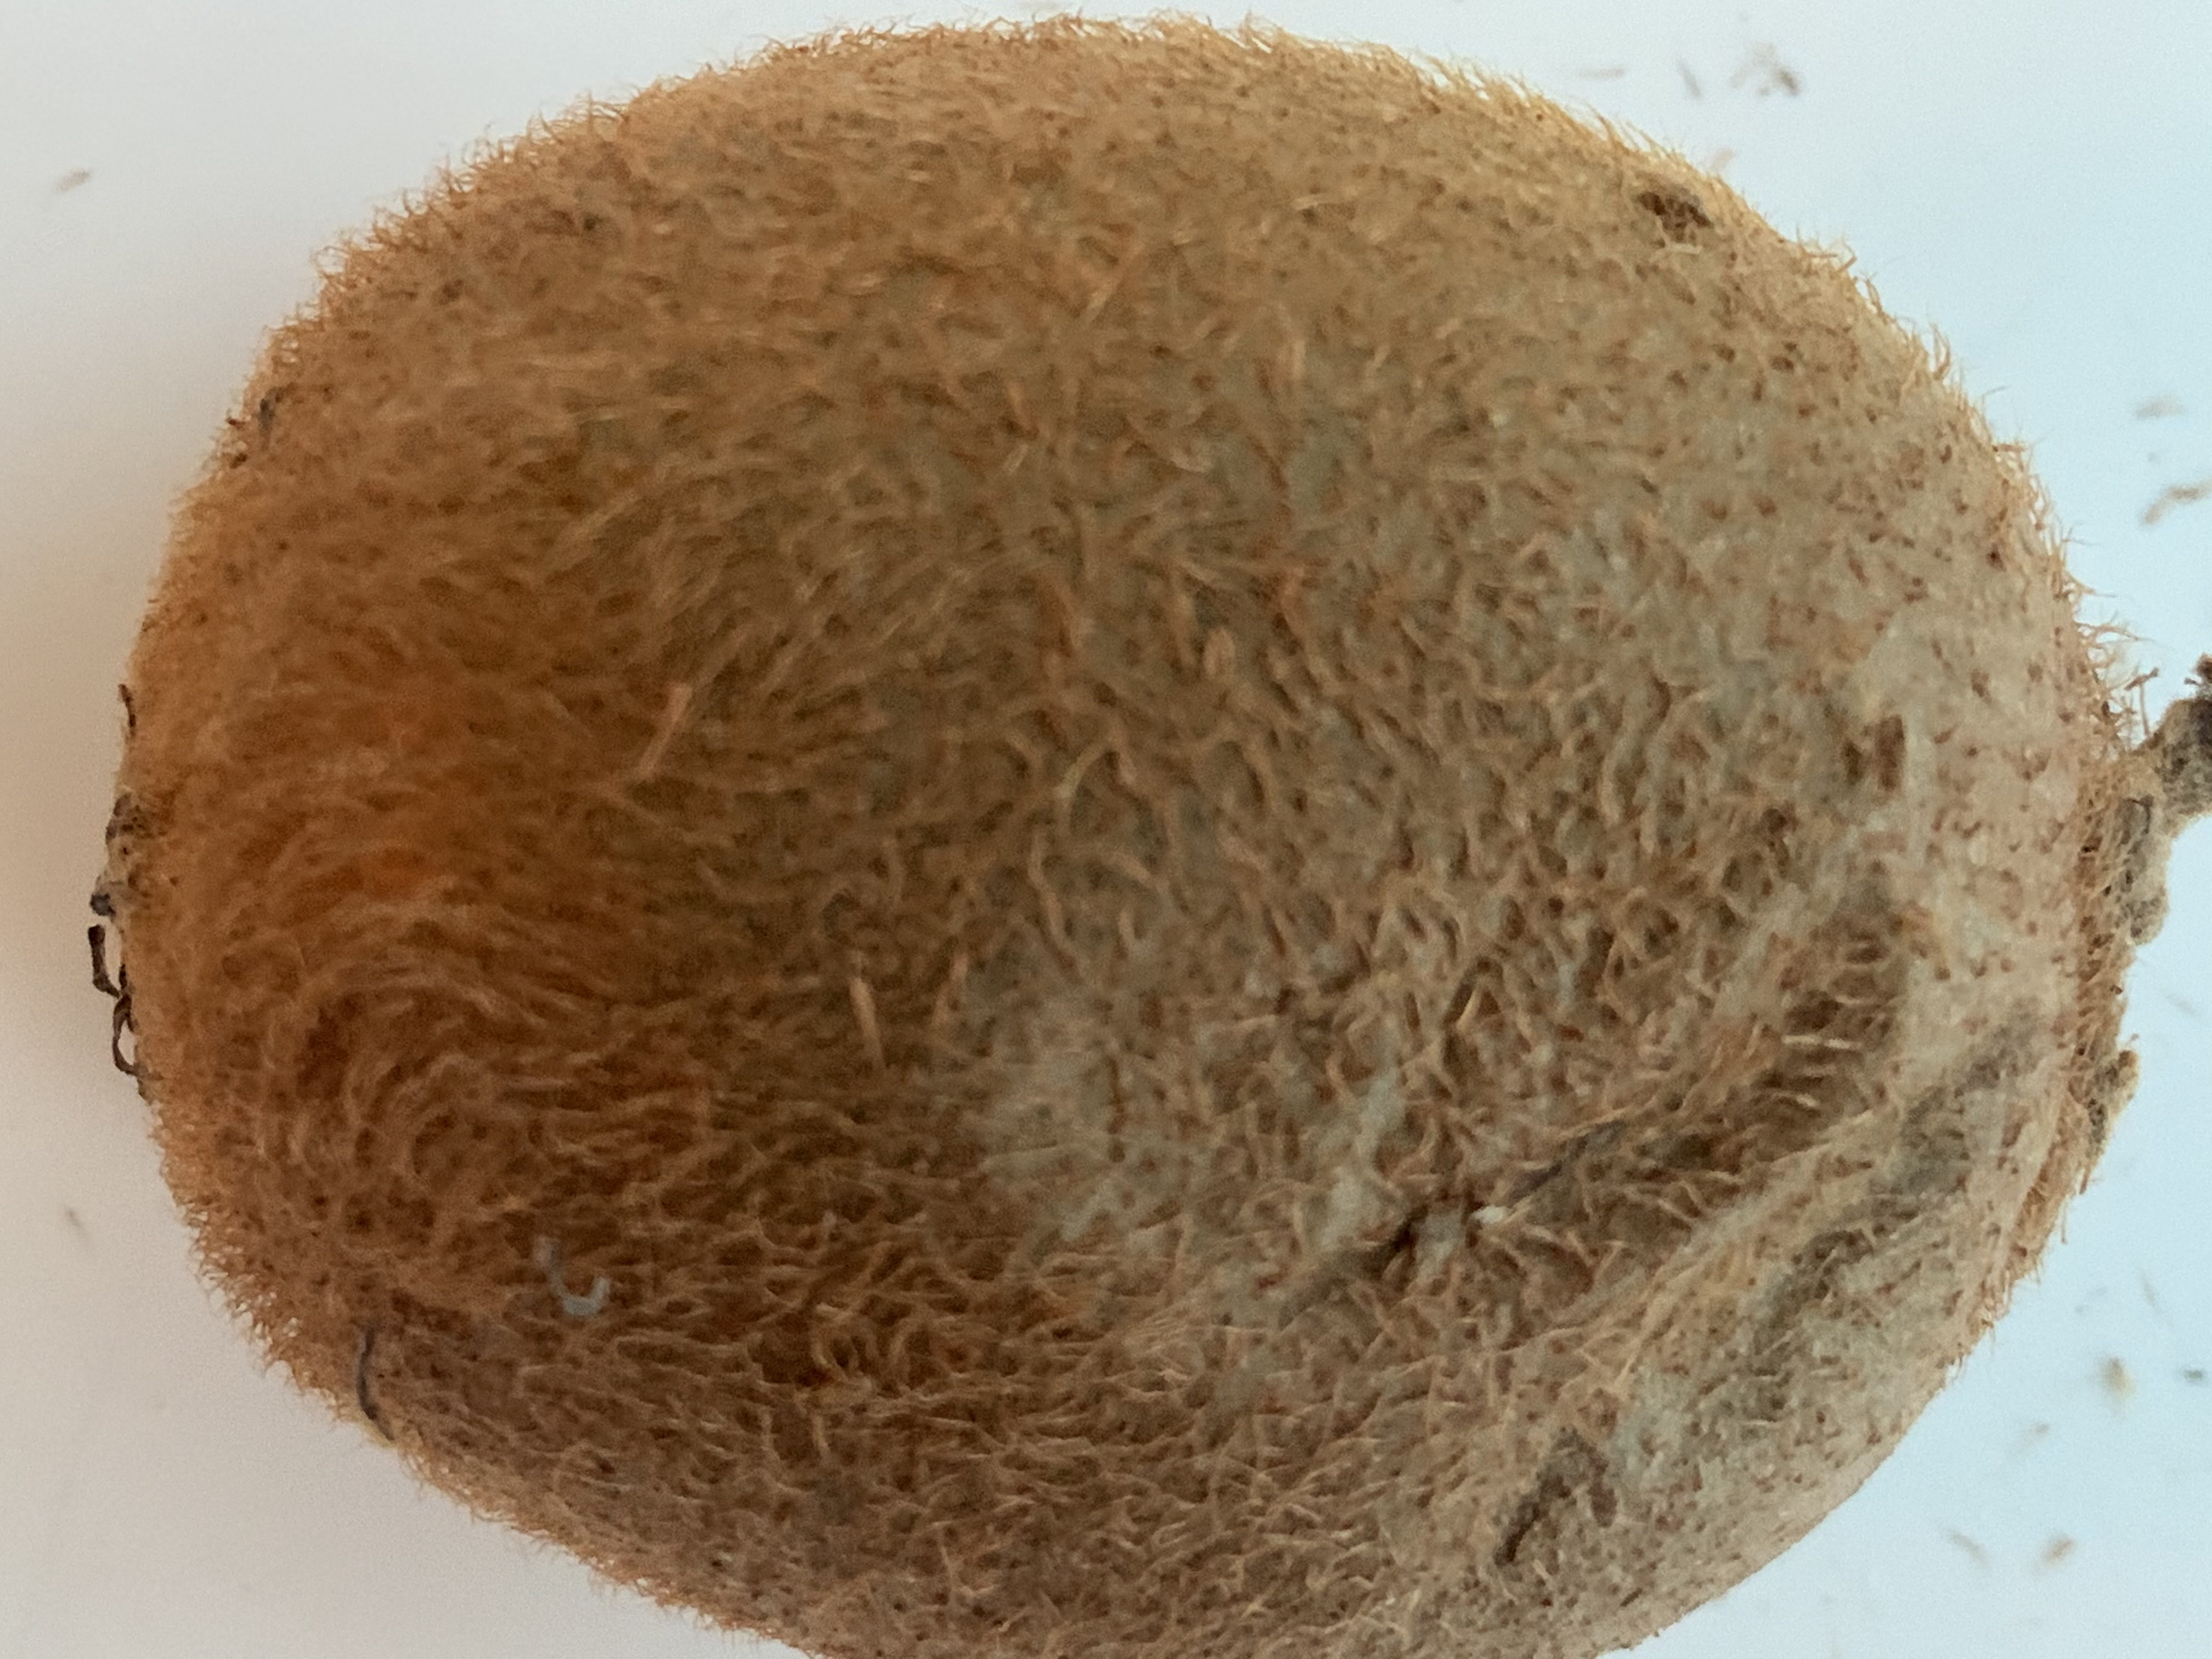kiwi: (85, 37, 2212, 1659)
